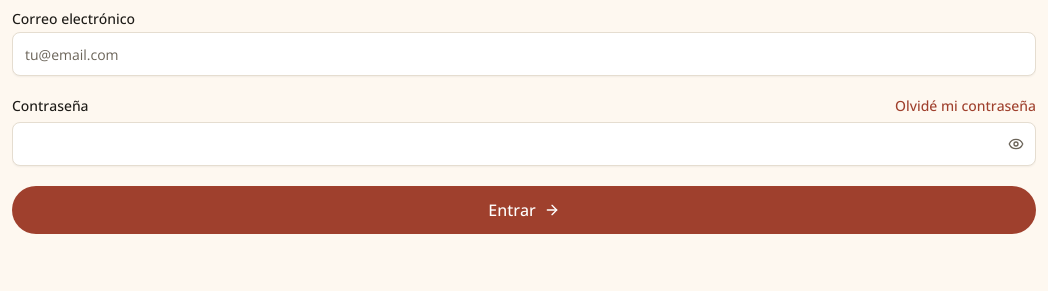
Test: LoginForm › muestra error genérico si las credenciales fallan (sin revelar si el email existe)
In the field labelled "Correo electrónico": (524, 54) [12,32,1036,76], type "ana@example.com"
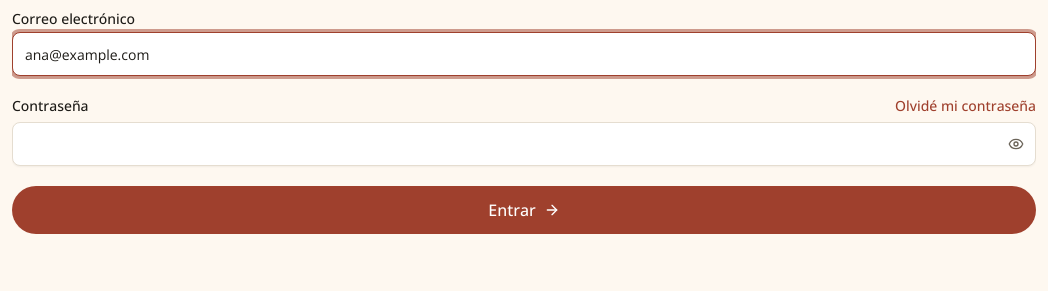
In the password field labelled "Contraseña": (524, 144) [12,122,1036,166], type "secreta-123"
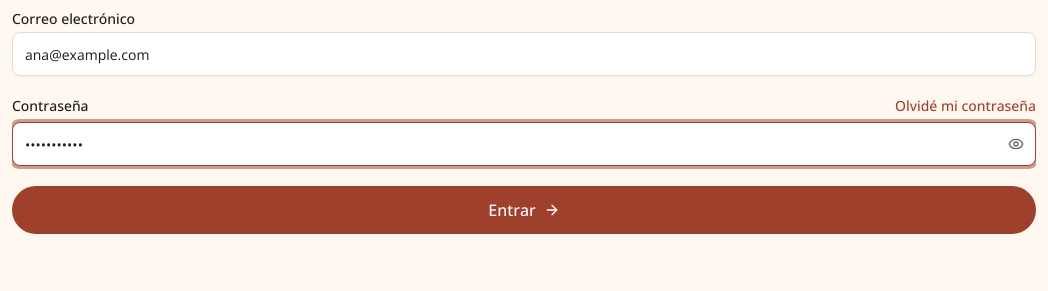
Click the button "Entrar": (524, 210) [12,186,1036,234]
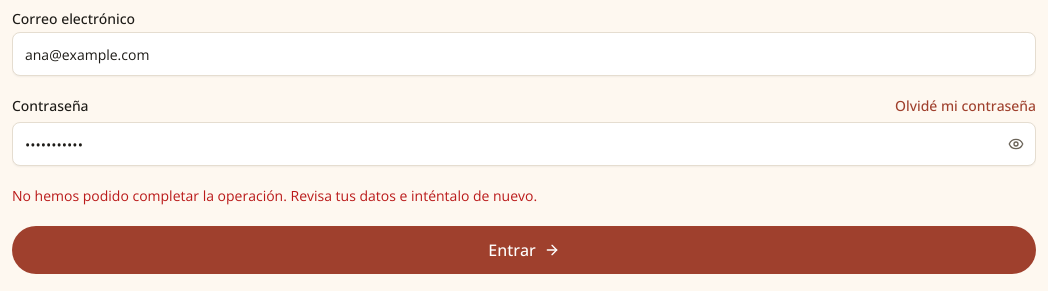
Expected: the message reads "No hemos podido completar la operación. Revisa tus datos e inténtalo de nuevo.", [12,186,537,205]
